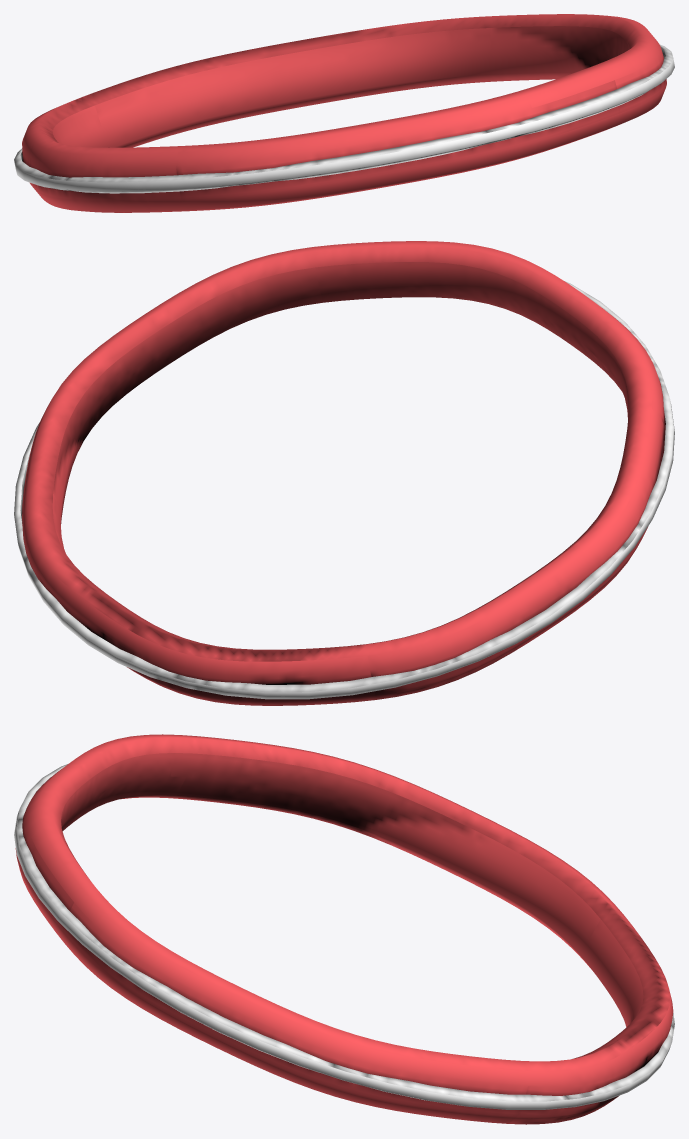
File: headband.glb
3 renders of one model, top to bottom at view 1: azimuth 30°, elevation 25°; view 2: azimuth 150°, elevation 25°; view 3: azimuth 270°, elevation 25°, orthographic. The views are drawn at different scales.
Parts seen in each view (by area): view 1: headband; view 2: headband; view 3: headband.
Boxes of the visible parts, <box> form: headband: <box>14,14,674,212</box>; headband: <box>14,241,674,705</box>; headband: <box>14,734,674,1124</box>.
Size of the model in its own units: 0.5633 by 0.2177 by 0.5372.
Materials: 2 (2 with a texture image).
